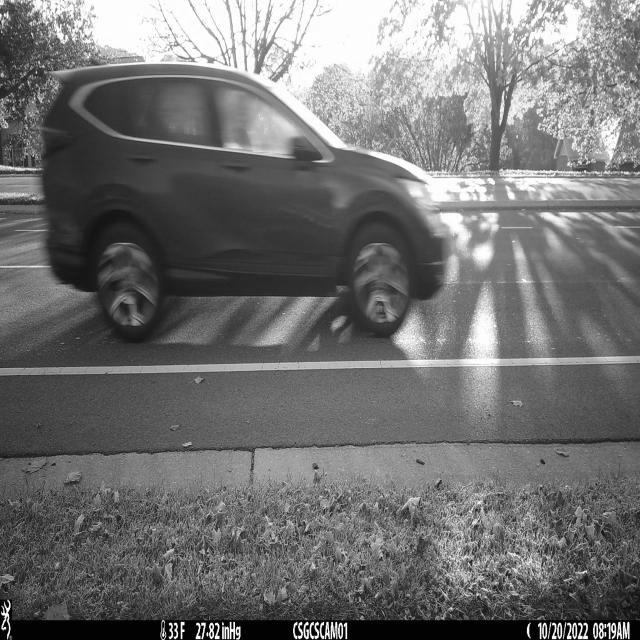SUV: (32, 62, 457, 344)
